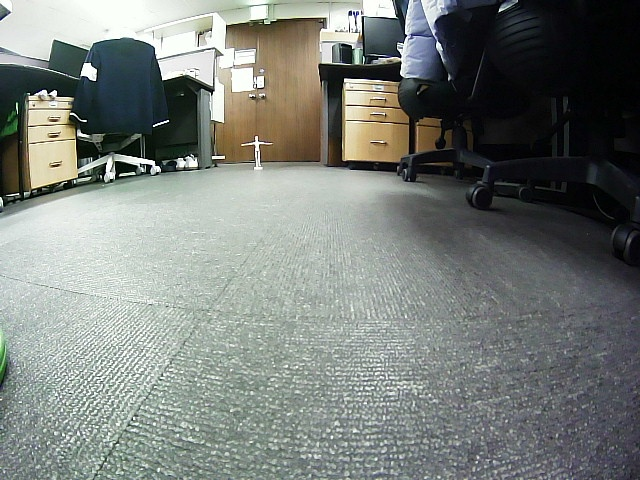person: (241, 136, 274, 168)
